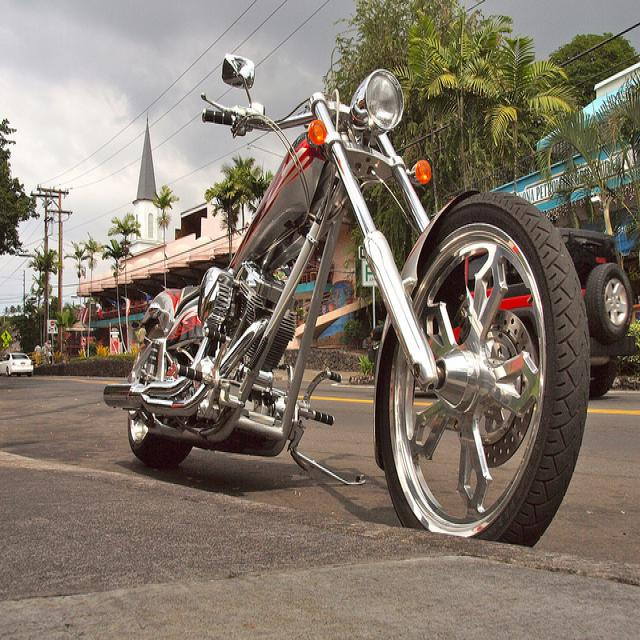motor: (92, 58, 591, 544)
